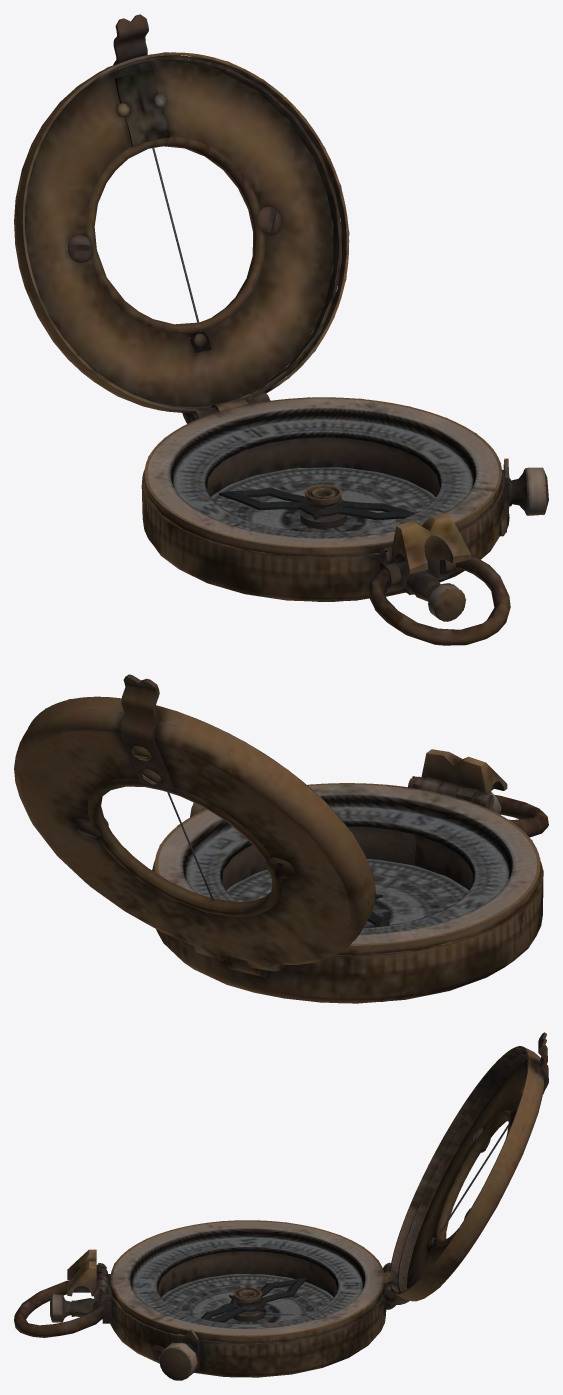
The model's file is seadogs_compass.gltf.
3 views of the same model, one above another, from view 1: azimuth 30°, elevation 25°; view 2: azimuth 150°, elevation 25°; view 3: azimuth 270°, elevation 25° (orthographic). The views are drawn at different scales.
Visible parts, largest first — view 1: seadogs_compass_lid, seadogs_compass, seadogs_compass_needle; view 2: seadogs_compass_lid, seadogs_compass; view 3: seadogs_compass, seadogs_compass_lid, seadogs_compass_needle.
Part boxes in pixels (<box>): seadogs_compass_lid: <box>14,14,349,423</box>; seadogs_compass: <box>141,397,548,645</box>; seadogs_compass_needle: <box>219,488,414,520</box>; seadogs_compass_lid: <box>14,674,375,971</box>; seadogs_compass: <box>152,749,548,1003</box>; seadogs_compass: <box>14,1220,397,1380</box>; seadogs_compass_lid: <box>382,1032,548,1304</box>; seadogs_compass_needle: <box>200,1278,306,1322</box>.
Bounding box in the file's own units: 0.0814 × 0.0866 × 0.1442.
Materials: 1 (1 with a texture image).
